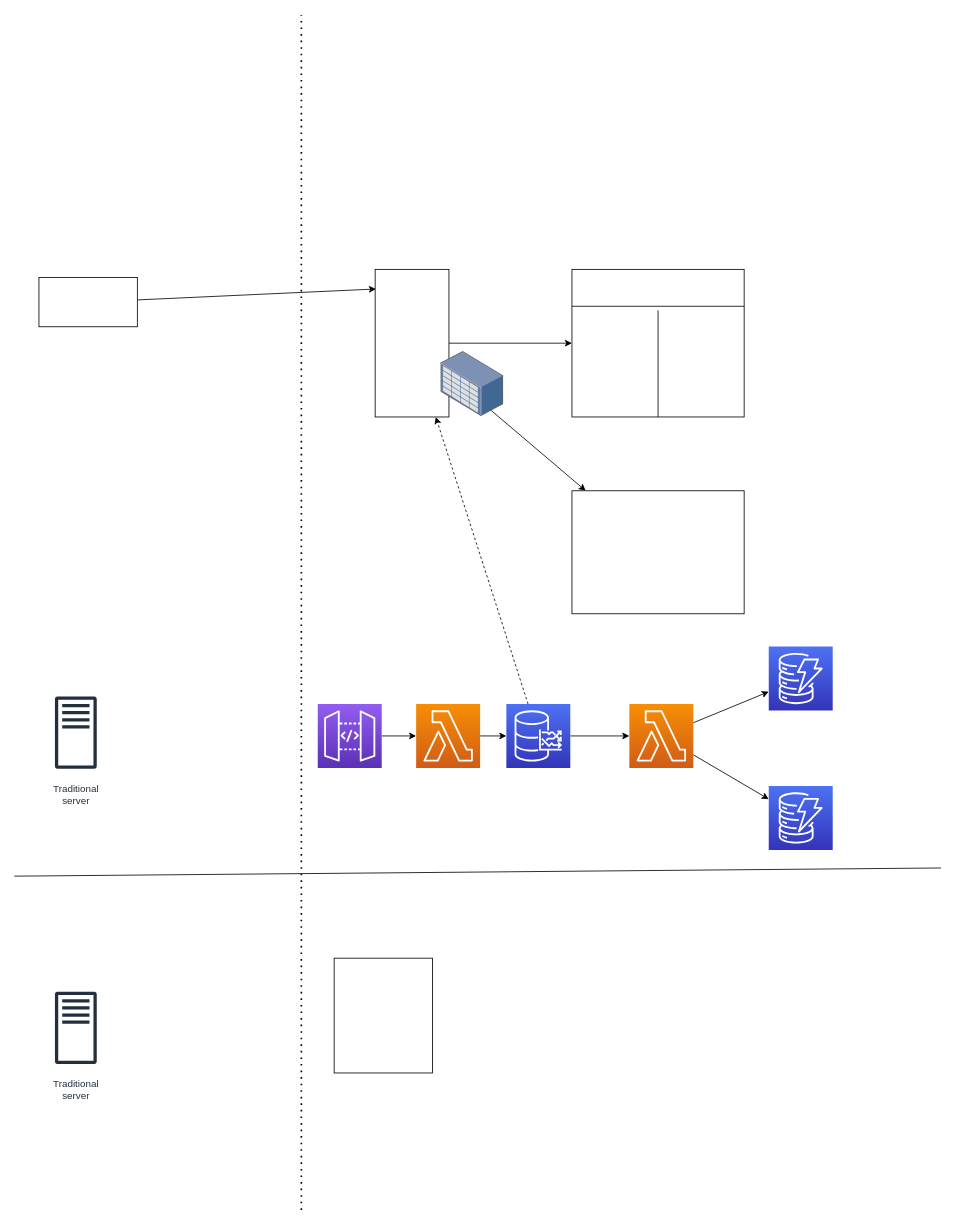
The diagram is 956 pixels wide and 1225 high, and some of its shapes have lost their labels. Here are the shapes that lost their labels. From the top down, the centre of each, then its label:
point 87,302: Factura -5000
point 383,1015: { "id":asdasd, "amount": 123234 }
